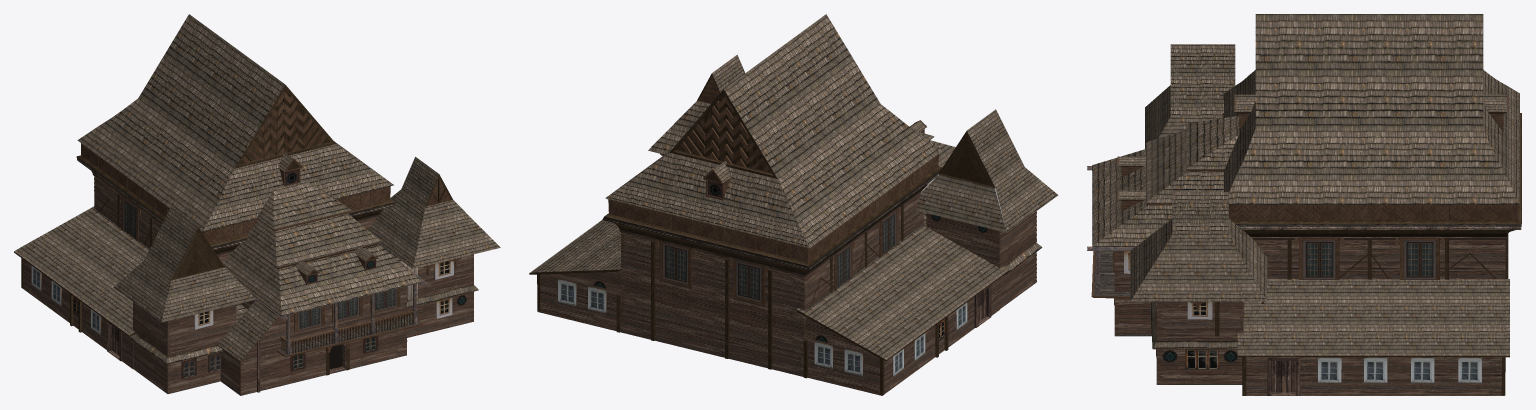
The model's file is preview.glb.
3 renders of one model, left to right at view 1: azimuth 30°, elevation 25°; view 2: azimuth 150°, elevation 25°; view 3: azimuth 270°, elevation 25°, orthographic. The views are drawn at different scales.
Parts seen in each view (by area): view 1: zablodow_gont.001_0, zablodow_bale5_0, zablodow_deskaobiciowa_0, zablodow_deskaobiciowaCiemna.001_0, zablodow_oknainne_0, zablodow_deskaobiciowa3_0, zablodow_deskaObiciowa6_0, zablodow_sidorDif_0, zablodow_deskaObiciowa8_0; view 2: zablodow_gont.001_0, zablodow_bale5_0, zablodow_deskaobiciowaCiemna.001_0, zablodow_deskaobiciowa_0, zablodow_oknainne_0, zablodow_sidorDif_0, zablodow_deskaObiciowa8_0; view 3: zablodow_gont.001_0, zablodow_bale5_0, zablodow_deskaobiciowa_0, zablodow_oknainne_0, zablodow_deskaobiciowaCiemna.001_0, zablodow_sidorDif_0, zablodow_deskaObiciowa8_0, zablodow_deskaobiciowa3_0, zablodow_deskaObiciowa6_0.
Boxes of the visible parts, x1,y1,x2,y2 form: zablodow_gont.001_0: (14,14,500,364); zablodow_bale5_0: (23,174,473,395); zablodow_deskaobiciowa_0: (81,91,478,364); zablodow_deskaobiciowaCiemna.001_0: (14,84,452,375); zablodow_oknainne_0: (31,169,466,378); zablodow_deskaobiciowa3_0: (278,314,420,355); zablodow_deskaObiciowa6_0: (253,254,428,355); zablodow_sidorDif_0: (76,156,395,250); zablodow_deskaObiciowa8_0: (107,211,347,392); zablodow_gont.001_0: (530,14,1058,359); zablodow_bale5_0: (538,187,1036,395); zablodow_deskaobiciowaCiemna.001_0: (529,73,1009,395); zablodow_deskaobiciowa_0: (608,76,1041,306); zablodow_oknainne_0: (558,180,987,376); zablodow_sidorDif_0: (602,170,940,270); zablodow_deskaObiciowa8_0: (974,285,991,327); zablodow_gont.001_0: (1092,14,1519,355); zablodow_bale5_0: (1114,237,1506,395); zablodow_deskaobiciowa_0: (1091,93,1517,349); zablodow_oknainne_0: (1114,240,1481,382); zablodow_deskaobiciowaCiemna.001_0: (1215,113,1521,395); zablodow_sidorDif_0: (1236,113,1521,229); zablodow_deskaObiciowa8_0: (1267,357,1299,395); zablodow_deskaobiciowa3_0: (1093,251,1130,295); zablodow_deskaObiciowa6_0: (1087,166,1134,293).
Bounding box in the file's own units: 21.67 × 14.74 × 20.21.
11 materials, 10 textured.
